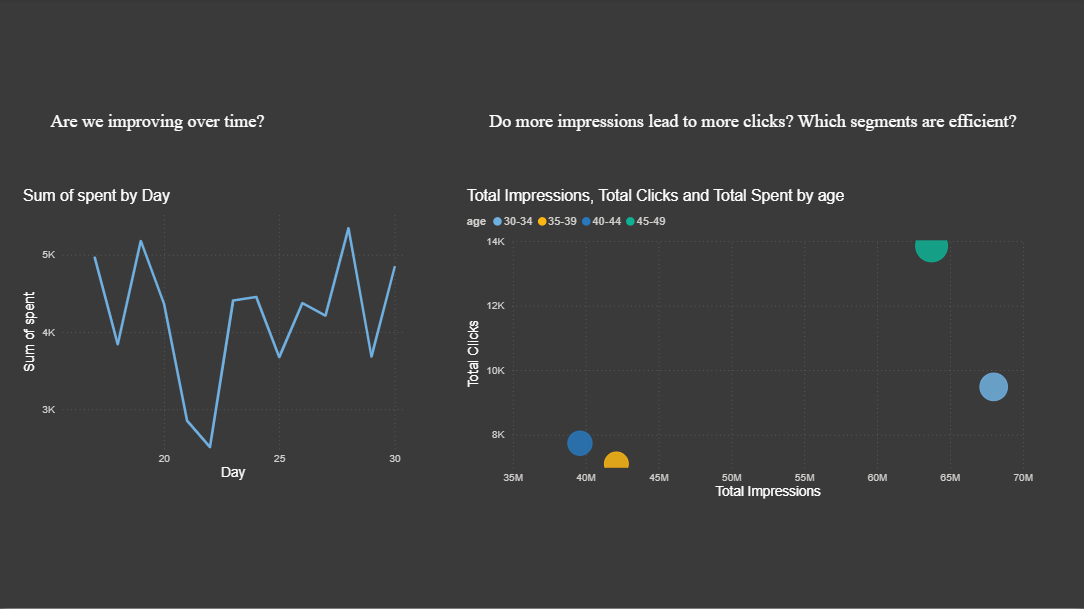

The page's visual inventory and layout, read from the dashboard file:
{"tool":"powerbi","page":{"name":"Page 2","canvas":[1280,720],"ordinal":1},"visuals":[{"type":"lineChart","fields":{"Category":["data.reporting_start.Variation.Date Hierarchy.Year","data.reporting_start.Variation.Date Hierarchy.Quarter","data.reporting_start.Variation.Date Hierarchy.Month","data.reporting_start.Variation.Date Hierarchy.Day"],"Y":["Sum(data.spent)"]},"box":[22.1,222.7,458.7,351],"z":0},{"type":"textbox","box":[54.6,128.3,280.2,53.1],"z":1000},{"type":"textbox","box":[572.3,128.3,708,53.1],"z":2000},{"type":"scatterChart","fields":{"X":["data.Total Impressions"],"Y":["data.Total Clicks"],"Series":["data.age"],"Size":["data.Total Spent"]},"box":[545.7,222.7,678.5,373.2],"z":3000}]}

Visuals, with their boxes in screenshot pixels (x1, y1, x2, y2), scaled from the page's 1280x720 canvas onto the 1084x609 screenshot:
lineChart - data.reporting_start.Variation.Date Hierarchy.Year x data.reporting_start.Variation.Date Hierarchy.Quarter: 19,188,407,485
textbox: 46,109,284,153
textbox: 485,109,1083,153
scatterChart - data.Total Impressions x data.Total Clicks: 462,188,1037,504
